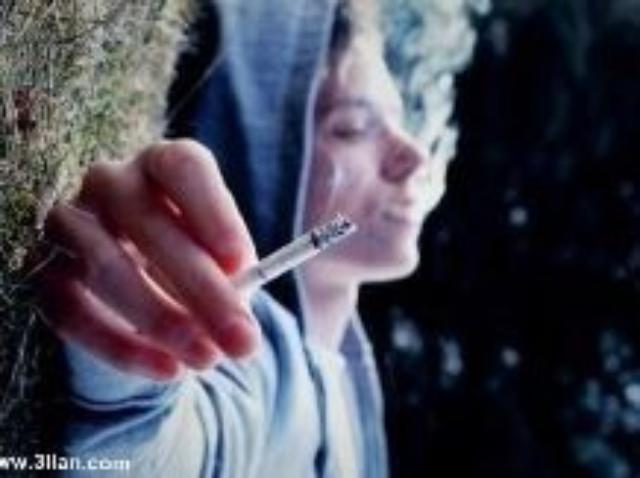Smoking: (250, 207, 360, 295)
